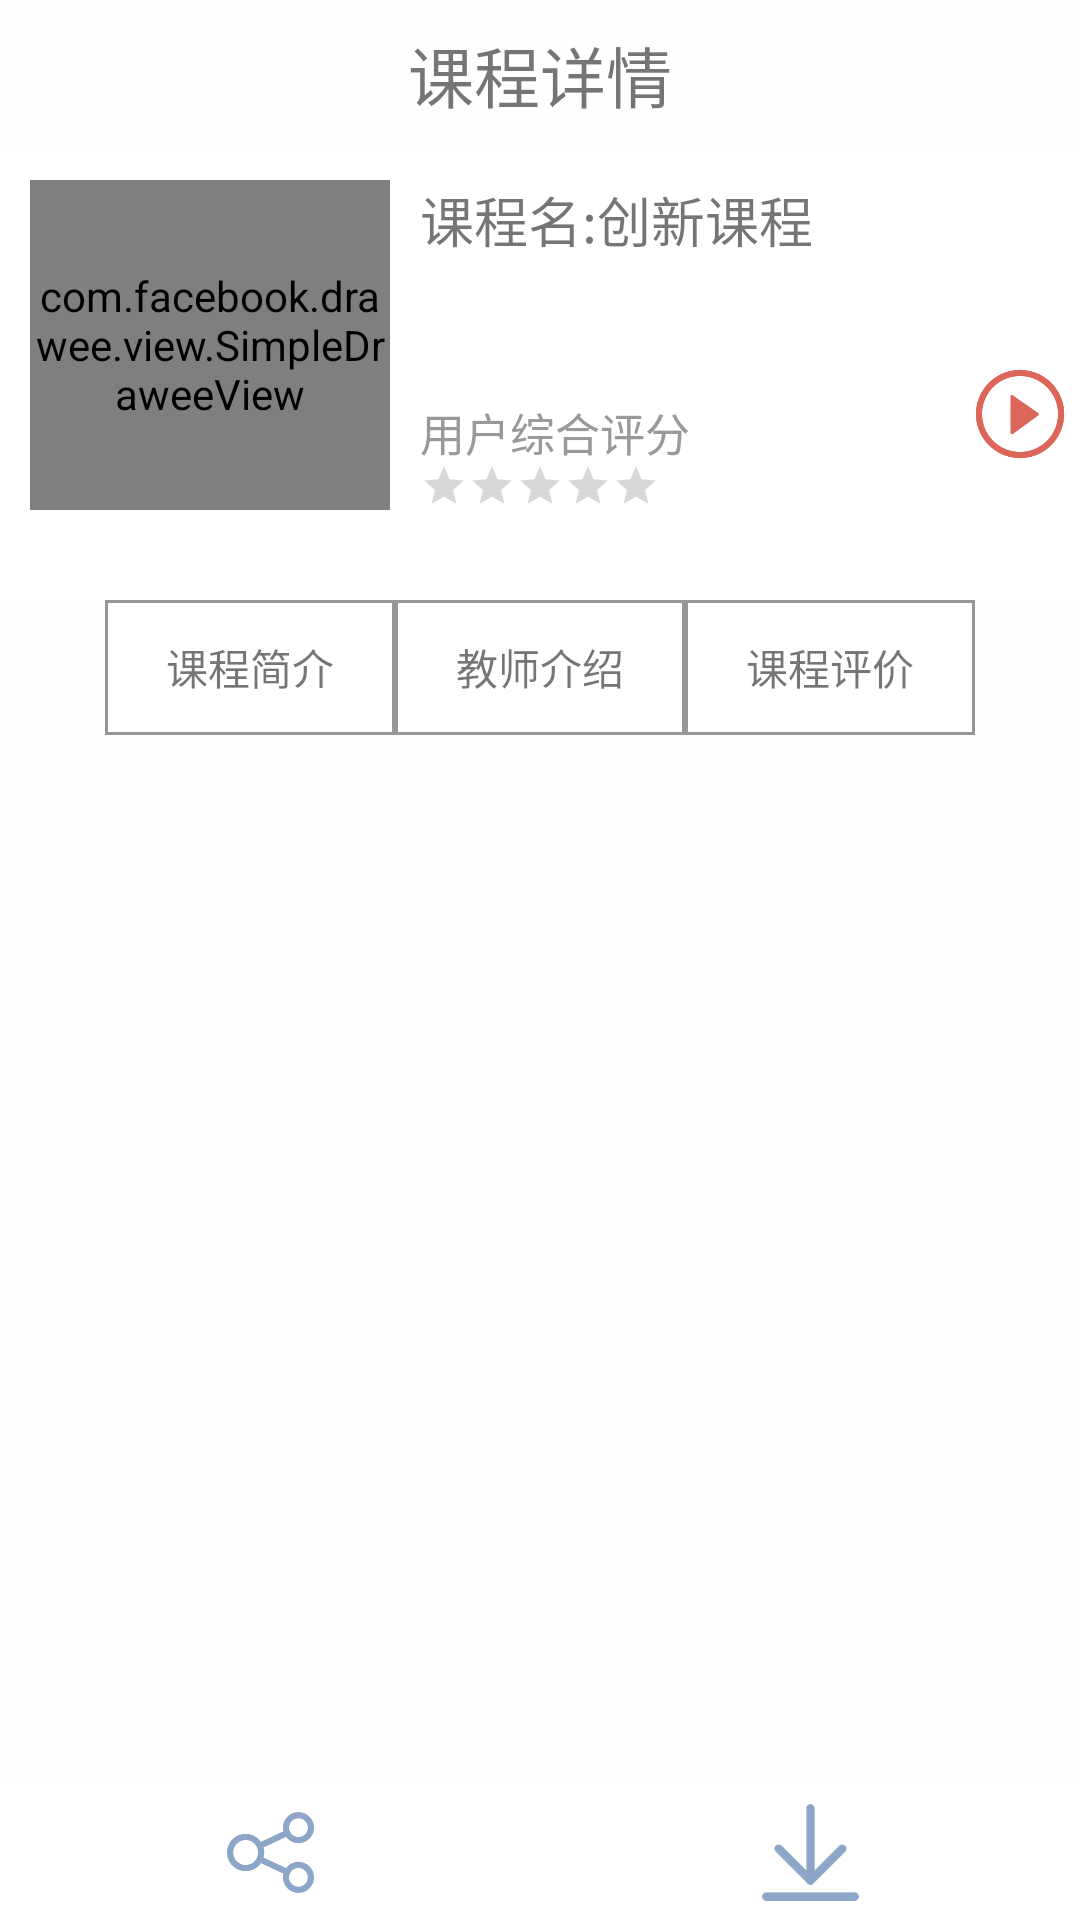

Icons on this 1080×1920 Android screen, each with the point to tap as (x,y):
bofang: (1020,414)
fenxiang: (270,1852)
xiazai: (810,1852)
